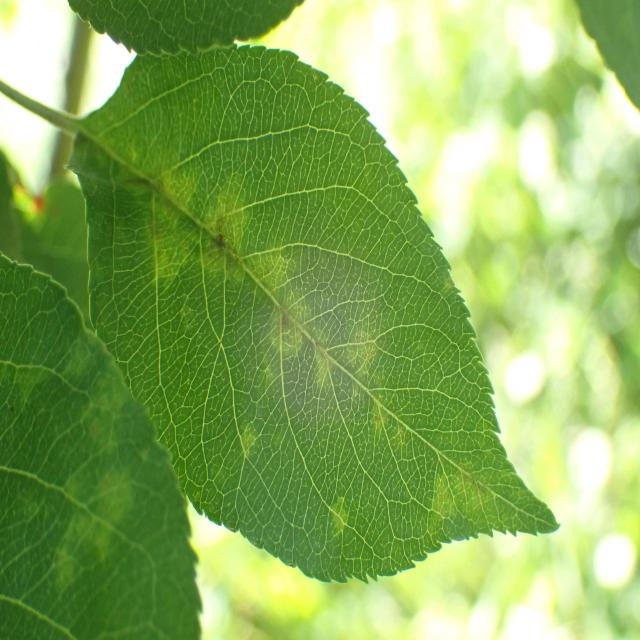scab: (112, 114, 391, 557), (15, 321, 132, 622)
